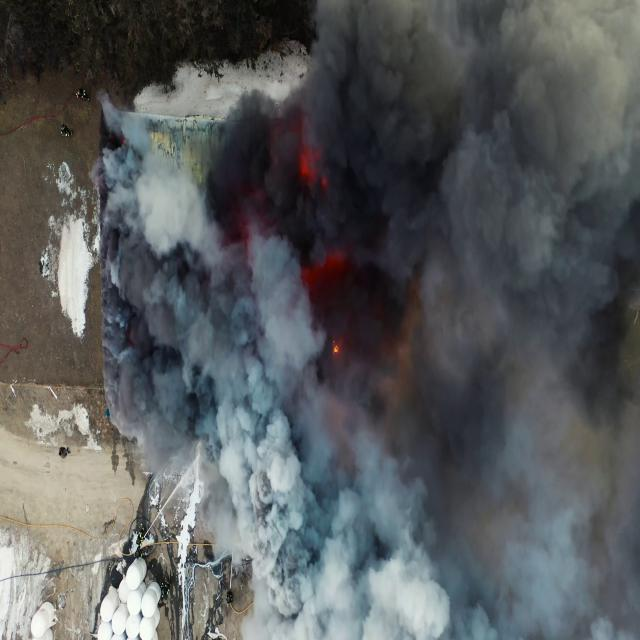Smoke: (103, 1, 639, 630)
